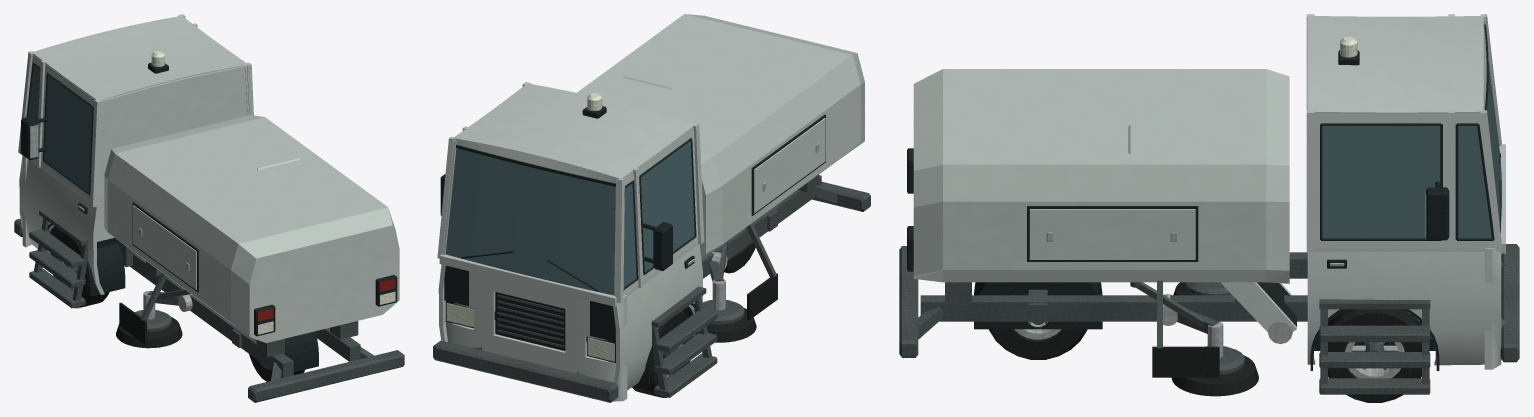
3 renders of one model, left to right at view 1: azimuth 30°, elevation 25°; view 2: azimuth 150°, elevation 25°; view 3: azimuth 270°, elevation 25°, orthographic. The views are drawn at different scales.
Visible parts, largest first — view 1: B029-05_equipment_paint, B029-05_body_shell_paint, B029-05_roof_paint, B029-05_door_leaf_glass_work_cab_door-1, B029-05_chassis_steel, B029-05_door_leaf_paint_work_cab_door-1, B029-05_steps_steel, B029-05_bumper_steel, B029-05_wheelwell_dark, B029-05_mount_steel, B029-05_equipment_rubber, B029-05_door_leaf_dark_work_cab_door-1 (+8 smaller); view 2: B029-05_equipment_paint, B029-05_glazing_glass, B029-05_body_shell_paint, B029-05_roof_paint, B029-05_bumper_steel, B029-05_door_leaf_glass_work_cab_door-1, B029-05_door_leaf_paint_work_cab_door-1, B029-05_steps_steel, B029-05_lamps_dark, B029-05_chassis_steel, B029-05_body_shell_dark, B029-05_door_leaf_dark_work_cab_door-1 (+12 smaller); view 3: B029-05_equipment_paint, B029-05_roof_paint, B029-05_body_shell_paint, B029-05_door_leaf_glass_work_cab_door1, B029-05_door_leaf_paint_work_cab_door1, B029-05_chassis_steel, B029-05_steps_steel, B029-05_glazing_glass, B029-05_equipment_rubber, B029-05_bumper_steel, B029-05_wheelwell_dark, B029-05_wheel_rubber_P0.8600_1.4000_0.4500 (+10 smaller).
Boxes of the visible parts, left/top/right/bottom form: B029-05_equipment_paint: left=104, top=115, right=399, bottom=343; B029-05_body_shell_paint: left=18, top=14, right=253, bottom=294; B029-05_roof_paint: left=33, top=17, right=247, bottom=100; B029-05_door_leaf_glass_work_cab_door-1: left=44, top=75, right=92, bottom=192; B029-05_chassis_steel: left=118, top=242, right=360, bottom=377; B029-05_door_leaf_paint_work_cab_door-1: left=38, top=64, right=94, bottom=271; B029-05_steps_steel: left=29, top=218, right=88, bottom=308; B029-05_bumper_steel: left=14, top=218, right=404, bottom=402; B029-05_wheelwell_dark: left=46, top=224, right=318, bottom=372; B029-05_mount_steel: left=140, top=261, right=373, bottom=380; B029-05_equipment_rubber: left=116, top=302, right=182, bottom=348; B029-05_door_leaf_dark_work_cab_door-1: left=21, top=73, right=93, bottom=214; B029-05_equipment_paint: left=577, top=14, right=864, bottom=259; B029-05_glazing_glass: left=445, top=148, right=636, bottom=295; B029-05_body_shell_paint: left=437, top=82, right=704, bottom=401; B029-05_roof_paint: left=455, top=83, right=694, bottom=178; B029-05_bumper_steel: left=433, top=181, right=870, bottom=402; B029-05_door_leaf_glass_work_cab_door-1: left=640, top=141, right=694, bottom=271; B029-05_door_leaf_paint_work_cab_door-1: left=634, top=128, right=700, bottom=385; B029-05_steps_steel: left=652, top=297, right=717, bottom=397; B029-05_lamps_dark: left=446, top=292, right=615, bottom=362; B029-05_chassis_steel: left=701, top=175, right=821, bottom=278; B029-05_body_shell_dark: left=444, top=265, right=616, bottom=341; B029-05_door_leaf_dark_work_cab_door-1: left=639, top=138, right=696, bottom=274; B029-05_equipment_paint: left=913, top=69, right=1296, bottom=331; B029-05_roof_paint: left=1309, top=16, right=1482, bottom=113; B029-05_body_shell_paint: left=1306, top=14, right=1505, bottom=369; B029-05_door_leaf_glass_work_cab_door1: left=1322, top=125, right=1440, bottom=238; B029-05_door_leaf_paint_work_cab_door1: left=1313, top=114, right=1449, bottom=365; B029-05_chassis_steel: left=920, top=252, right=1307, bottom=321; B029-05_steps_steel: left=1319, top=309, right=1430, bottom=394; B029-05_glazing_glass: left=1458, top=60, right=1501, bottom=238; B029-05_equipment_rubber: left=1152, top=282, right=1258, bottom=396; B029-05_bumper_steel: left=899, top=244, right=1519, bottom=362; B029-05_wheelwell_dark: left=974, top=282, right=1439, bottom=370; B029-05_wheel_rubber_P0.8600_1.4000_0.4500: left=1328, top=309, right=1421, bottom=402.
Size of the model in its own units: 2.56 by 2.95 by 5.25.
Materials: 9 (9 with a texture image).
